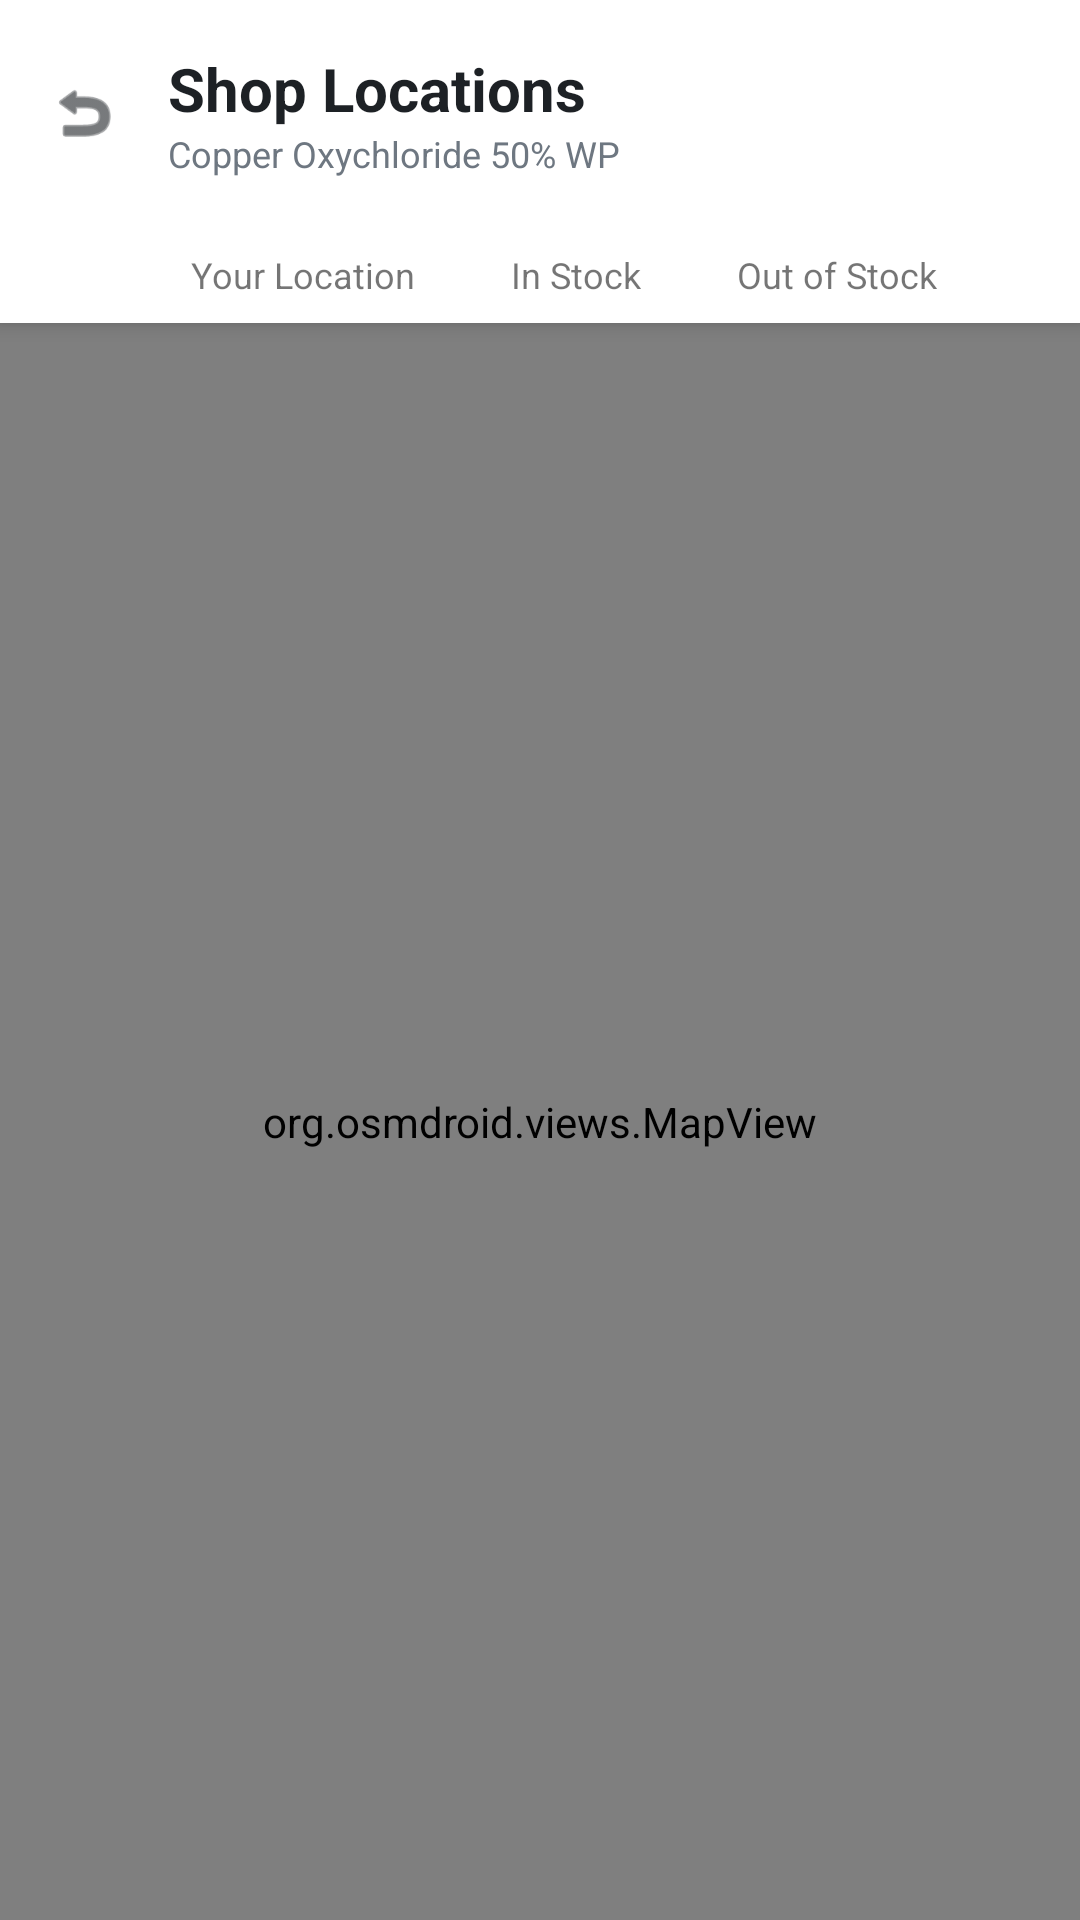

Where to tap for icons on this 1080w x 1920h app screen, as [x,y]:
revert: [85,113]
